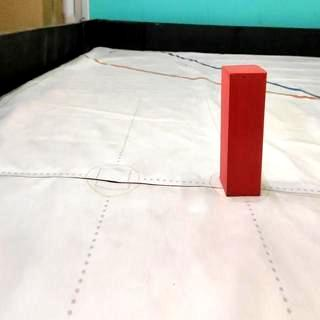redbox: (220, 62, 268, 195)
